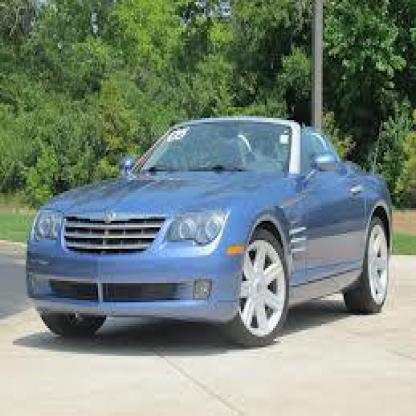Vehicle: (26, 118, 395, 349)
